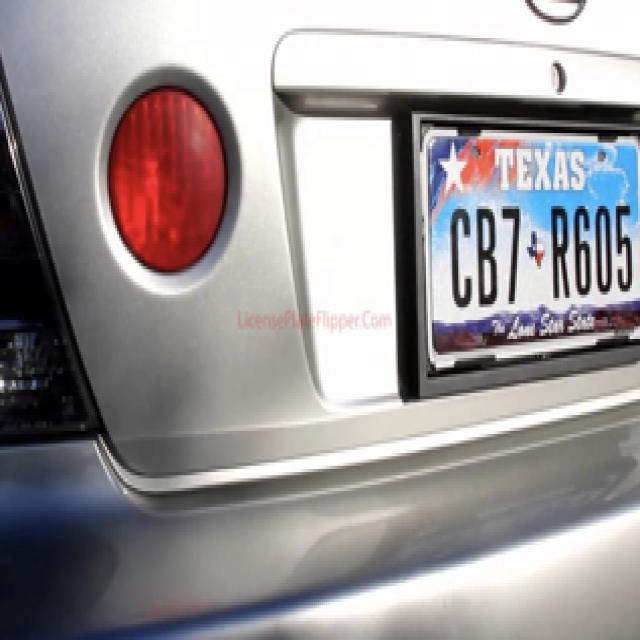license_plate: (416, 117, 640, 374)
